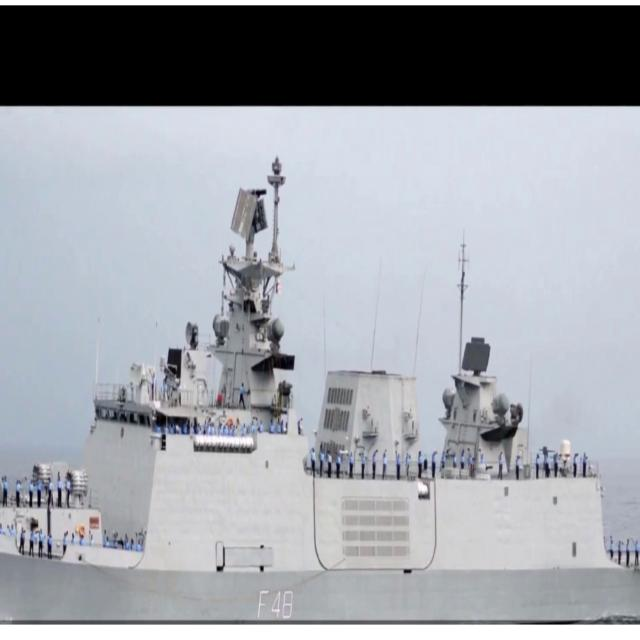OCR: (249, 586, 301, 623)
